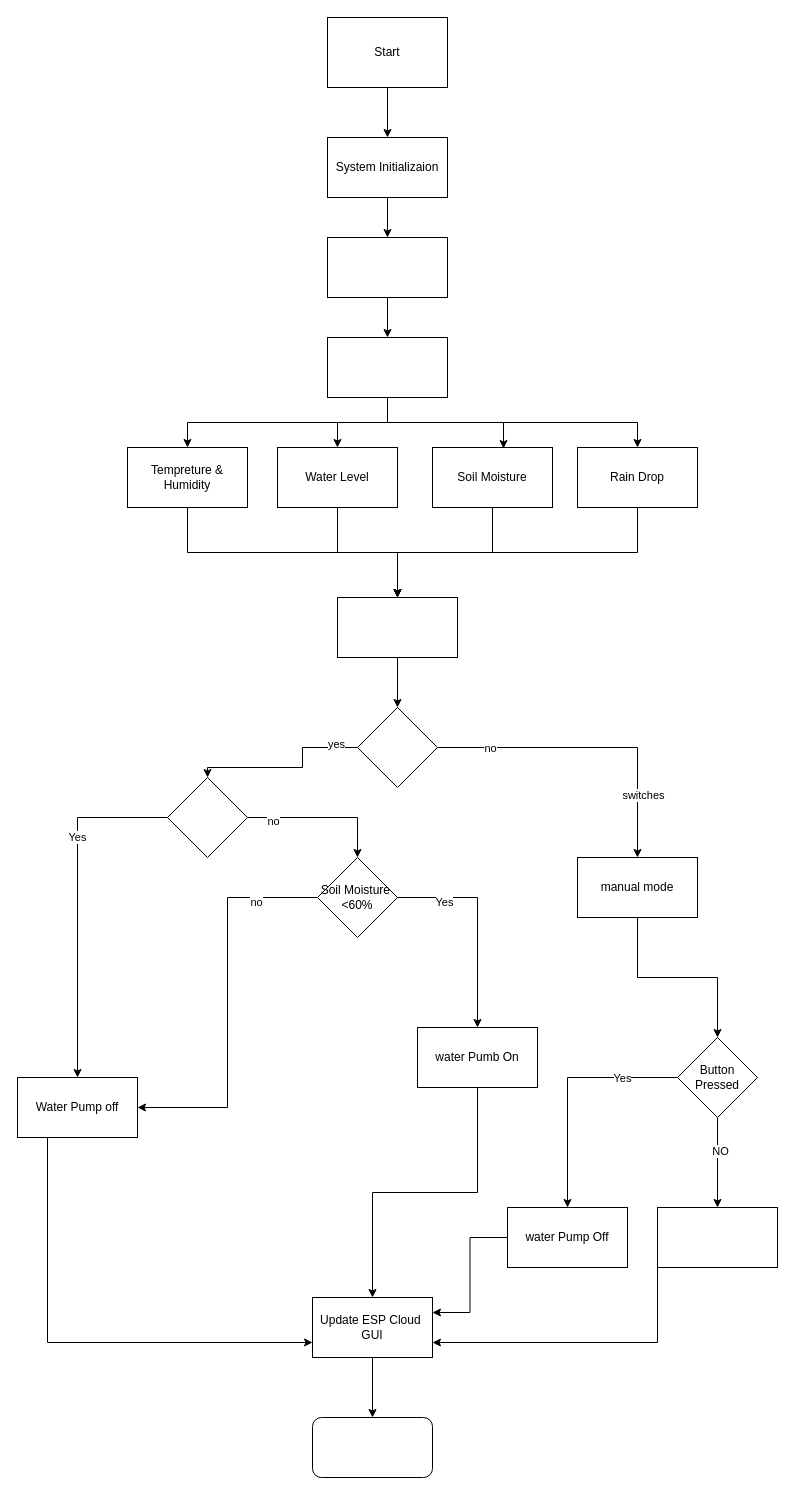
Some shapes in this 795 by 1495 pixel diagram are drawn without their labels. Each missing label, with the box of its shape:
Automatic Mode: (356, 706, 438, 788)
Connected to the ESP Cloud: (326, 236, 448, 298)
End: (312, 1416, 432, 1478)
Read Sensors: (326, 336, 448, 398)
update variables in the Blynk Cloud: (336, 596, 458, 658)
Water Level <20% ?: (166, 776, 248, 858)
Water Pump ON: (656, 1206, 778, 1268)
